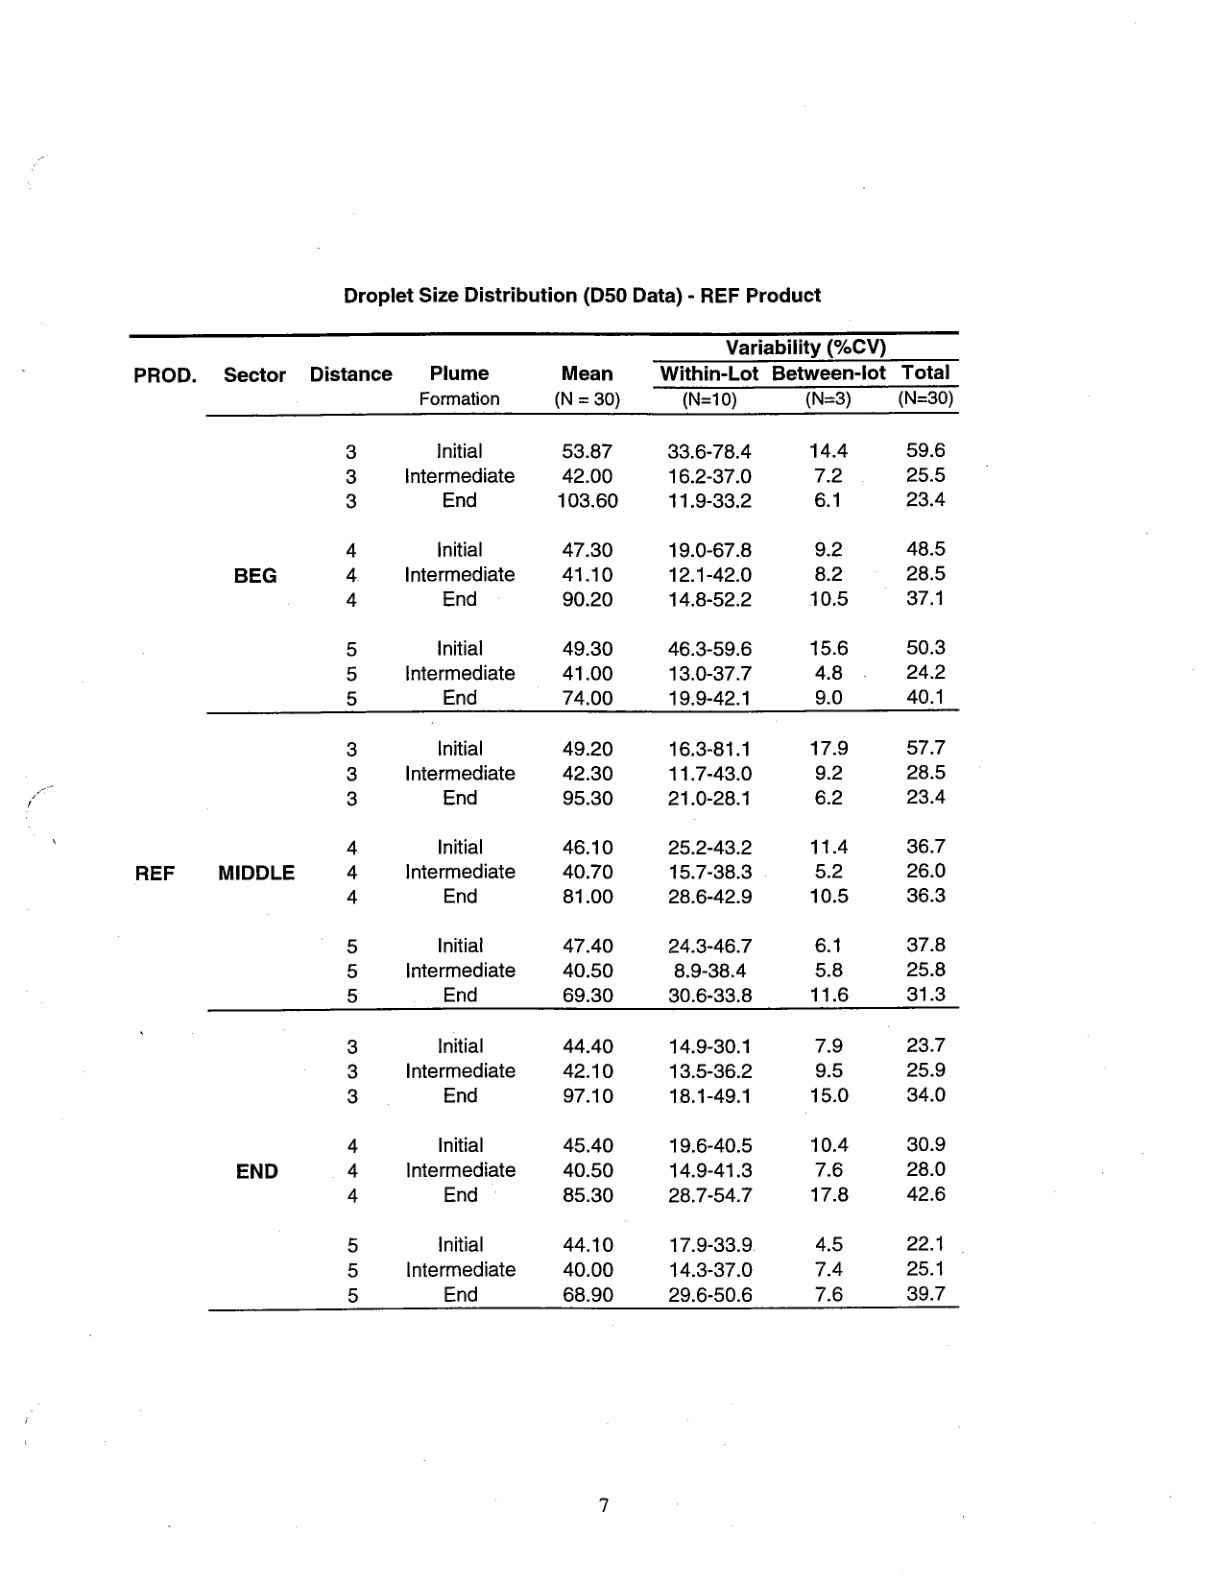partial_lined_merged_cells: (123, 328, 968, 1317)
